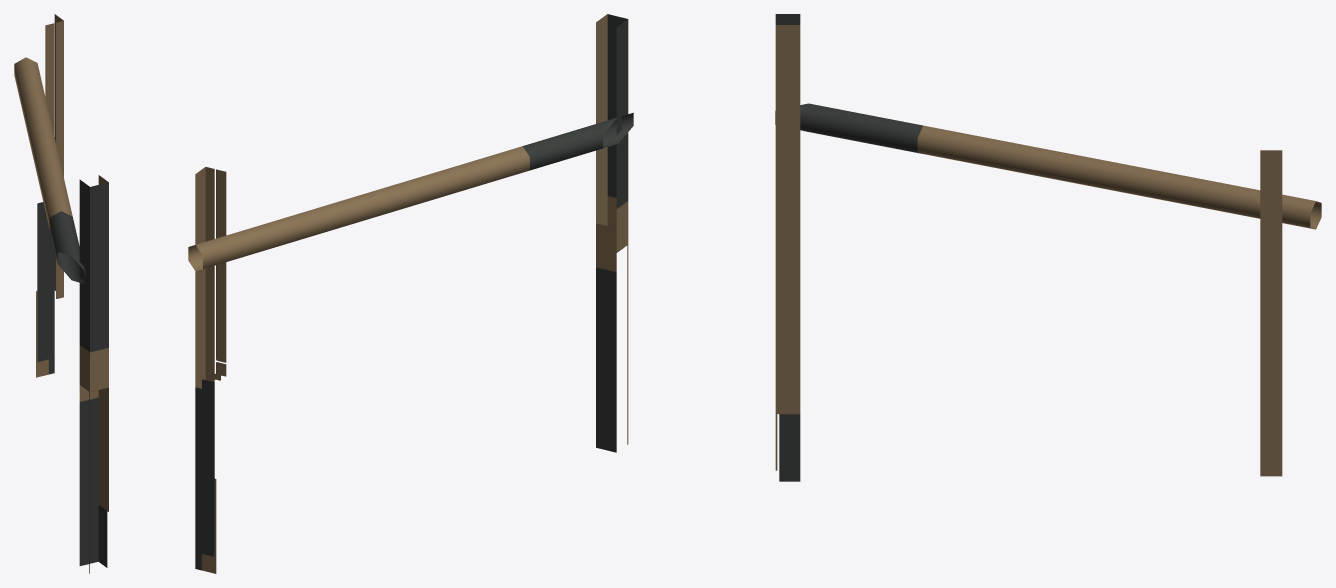
Rendered from section-5.obj.
3 views of the same model, side by side, from view 1: azimuth 30°, elevation 25°; view 2: azimuth 150°, elevation 25°; view 3: azimuth 270°, elevation 25° (orthographic). The views are drawn at different scales.
Bounding box in the file's own units: 0.6007 × 1.21 × 1.53.
